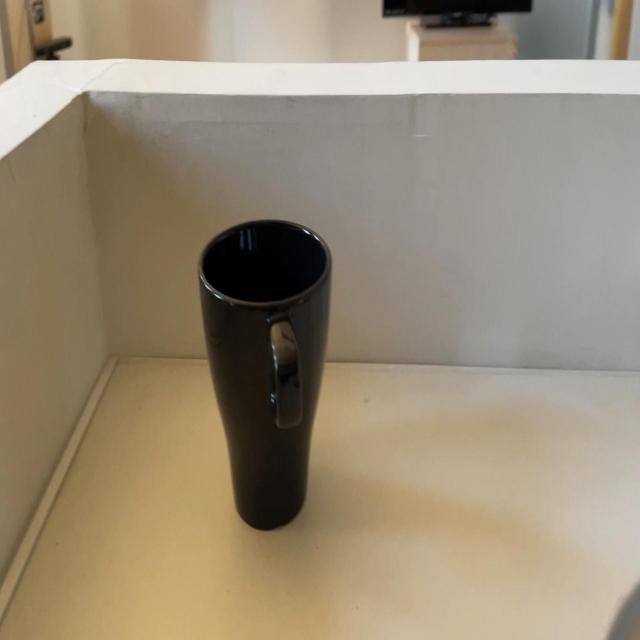cup: (197, 216, 331, 532)
